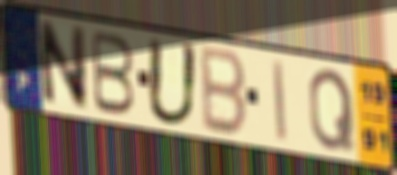B: (199, 42, 249, 141), (90, 27, 137, 119)
I: (271, 57, 289, 147)
N: (35, 16, 90, 113)
Q: (307, 66, 358, 153)
U: (145, 33, 201, 129)
